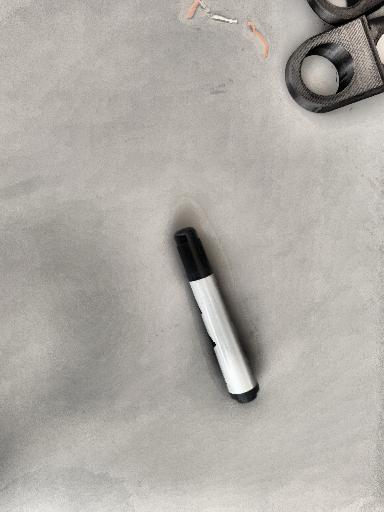marcador negro: (174, 227, 259, 403)
